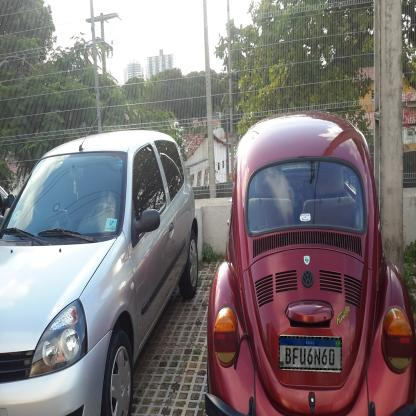PlacaM: (279, 336, 342, 370)
